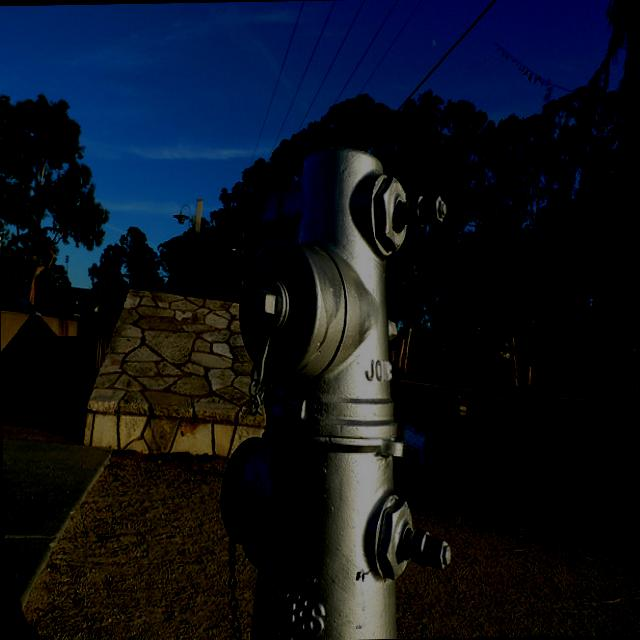Vehicle: (0, 292, 41, 314)
